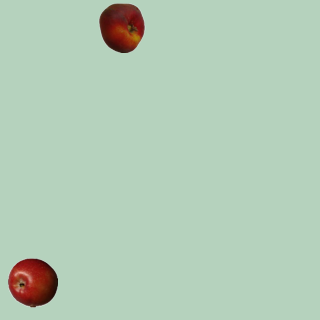Apple Braeburn: (7, 257, 57, 307)
Nectarine Flat: (96, 2, 146, 52)
